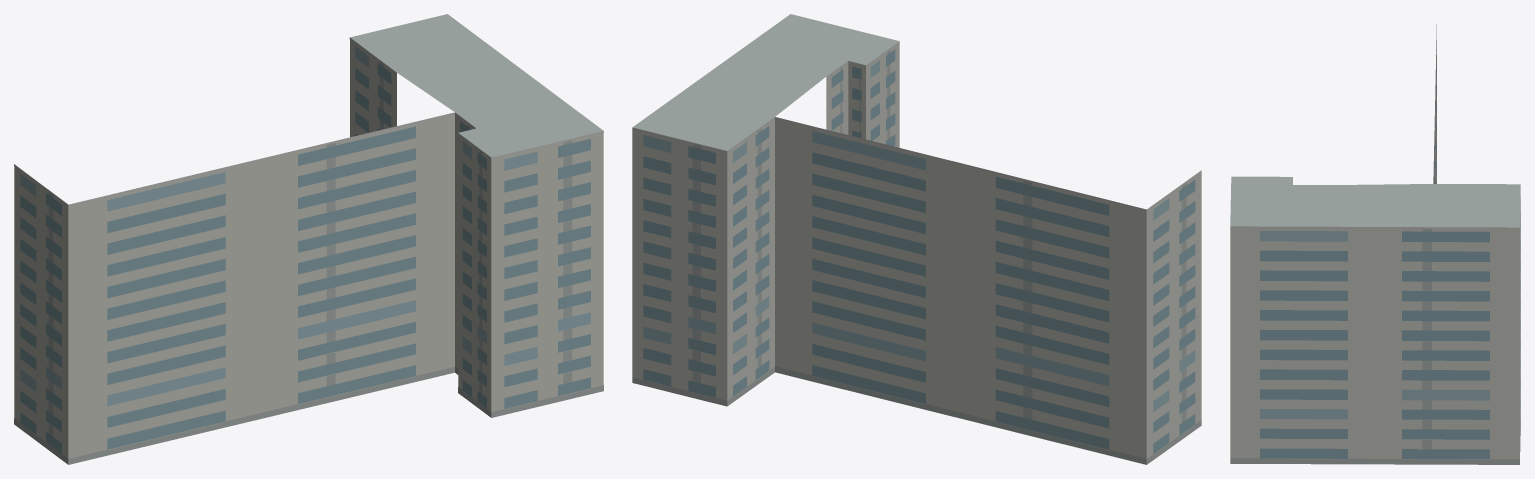
File: residential-4d88bd1e-9f8a-45cd-a74b-69d288fcef72.glb
3 views of the same model, side by side, from view 1: azimuth 30°, elevation 25°; view 2: azimuth 150°, elevation 25°; view 3: azimuth 270°, elevation 25° (orthographic). The views are drawn at different scales.
Parts seen in each view (by area): view 1: residential-4d88bd1e-9f8a-45cd-a74b-69d288fcef72.tmp; view 2: residential-4d88bd1e-9f8a-45cd-a74b-69d288fcef72.tmp; view 3: residential-4d88bd1e-9f8a-45cd-a74b-69d288fcef72.tmp.
Boxes of the visible parts, <box> form: residential-4d88bd1e-9f8a-45cd-a74b-69d288fcef72.tmp: <box>14,14,603,464</box>; residential-4d88bd1e-9f8a-45cd-a74b-69d288fcef72.tmp: <box>632,14,1201,464</box>; residential-4d88bd1e-9f8a-45cd-a74b-69d288fcef72.tmp: <box>1230,24,1520,464</box>.
Size of the model in its own units: 63.65 by 33 by 36.6.
